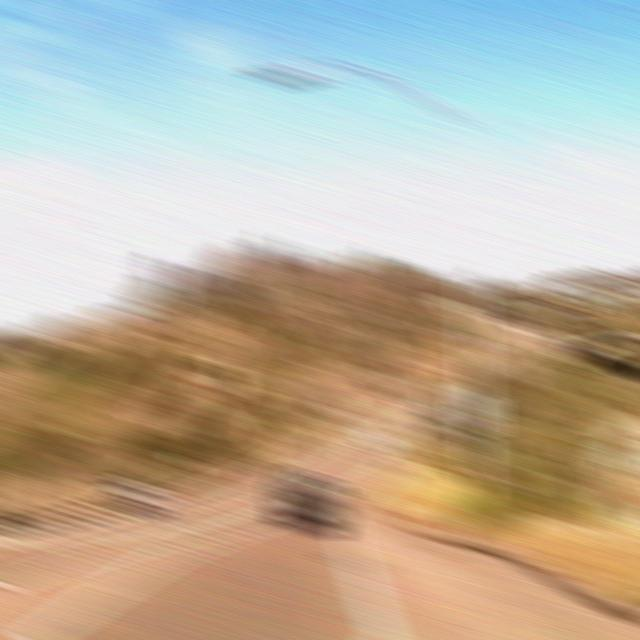speedLimit50: (455, 386, 496, 433)
